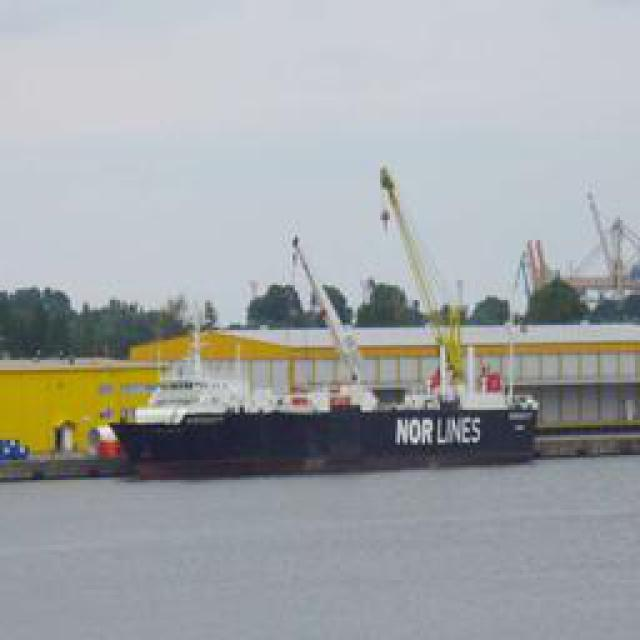Ship: (106, 165, 551, 468)
